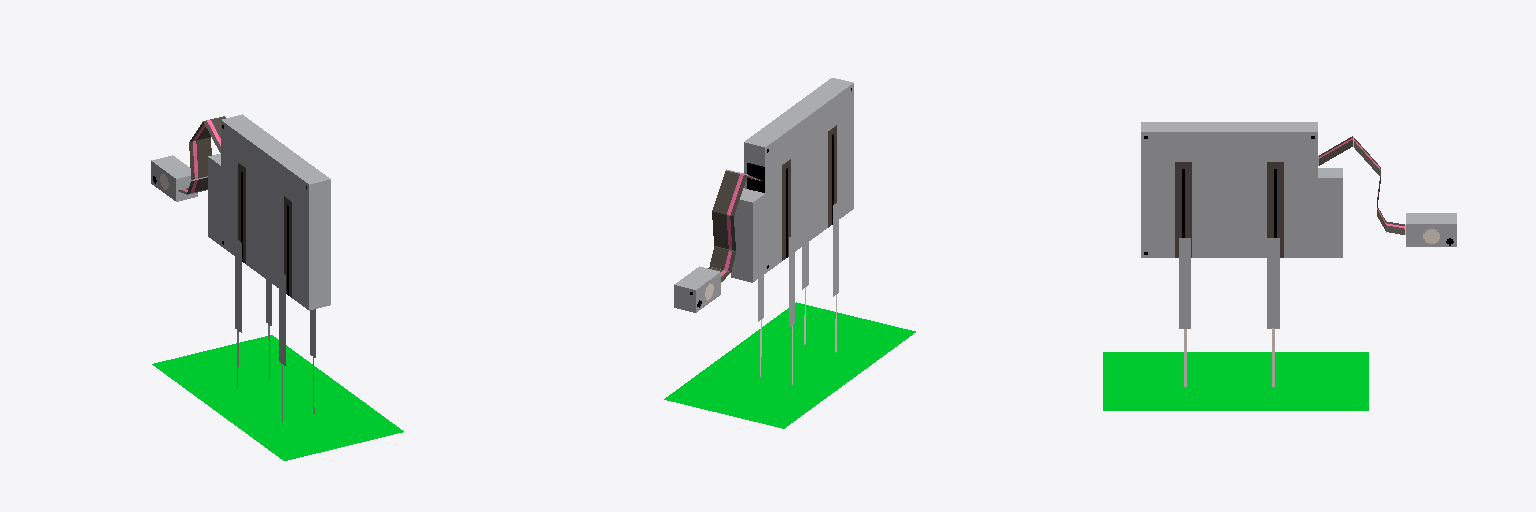
The picture shows the model from 3 angles: view 1: azimuth 30°, elevation 25°; view 2: azimuth 150°, elevation 25°; view 3: azimuth 270°, elevation 25°; orthographic projection.
Visible parts, largest first — view 1: machine; view 2: machine; view 3: machine.
Part boxes in pixels (left/top/right/bottom): machine: left=151, top=114, right=403, bottom=460; machine: left=664, top=78, right=915, bottom=428; machine: left=1103, top=122, right=1456, bottom=410.
Size of the model in its own units: 2.75 by 5.51 by 7.
1 materials, 1 textured.